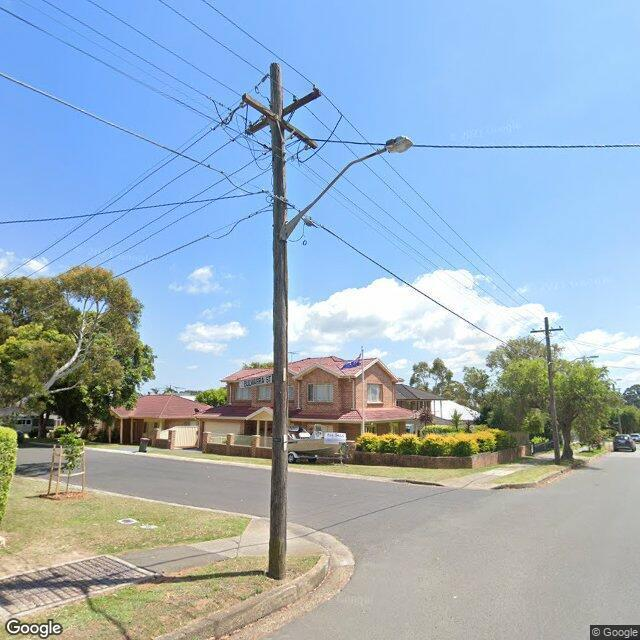crossarm: (244, 72, 324, 136), (242, 93, 318, 152), (530, 326, 564, 334)
streetlight: (281, 135, 416, 242), (551, 354, 600, 376)
timber-pole: (268, 62, 287, 581), (544, 317, 560, 466)
